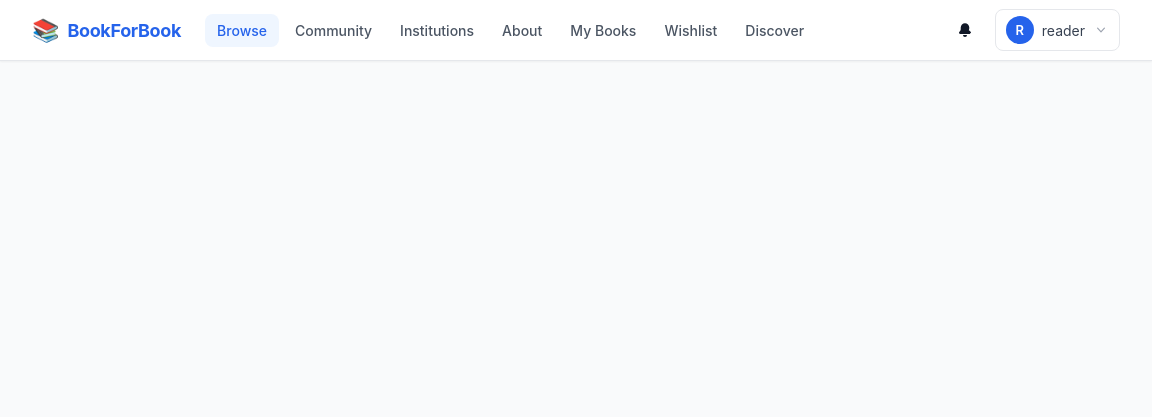
Navbar › opens user menu and shows dropdown links
The width and height of the screenshot is (1152, 417).
Click the button "R reader". click: (1057, 30)
box: [995, 9, 1120, 51]
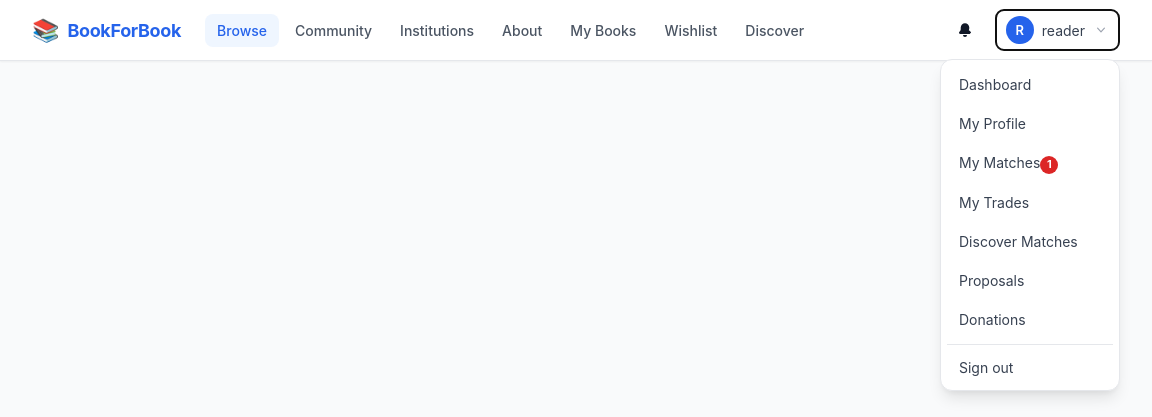
Result: the link "Dashboard" is shown at [959, 76, 1031, 93]
Result: the link "My Profile" is shown at [959, 115, 1026, 132]
Result: the button "Sign out" is shown at [947, 350, 1113, 384]
